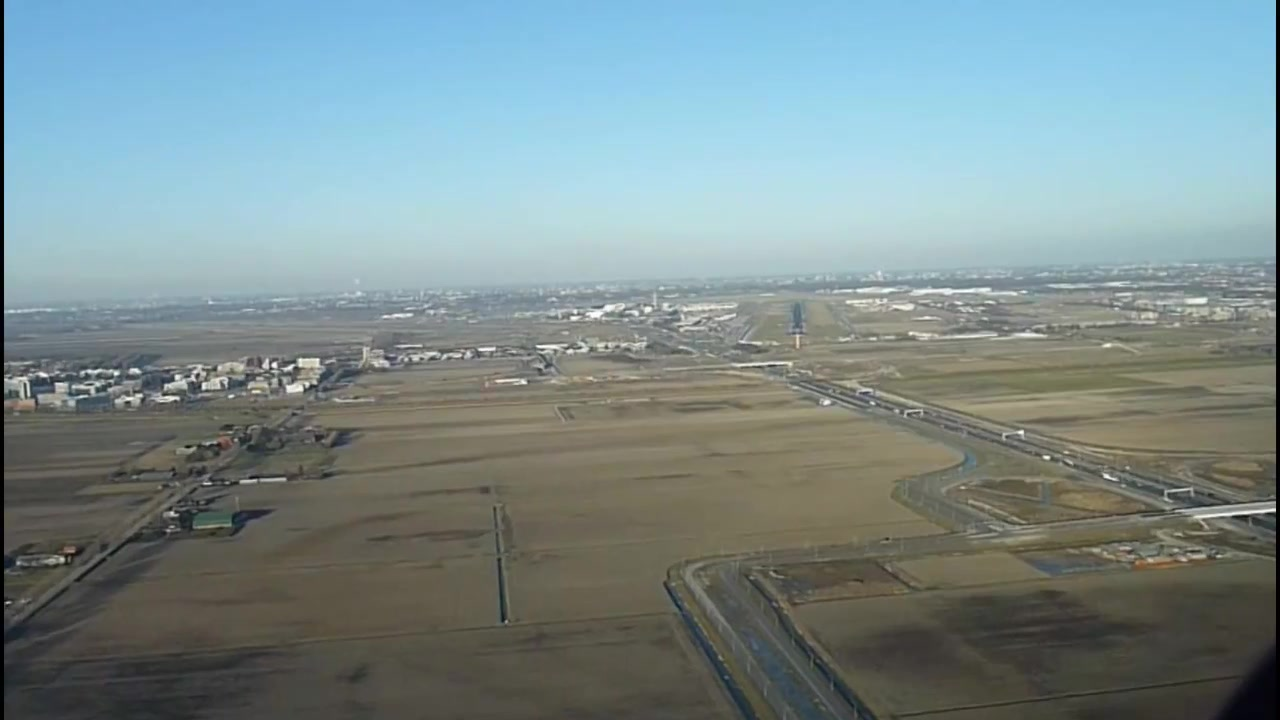runway: (786, 301, 807, 338)
